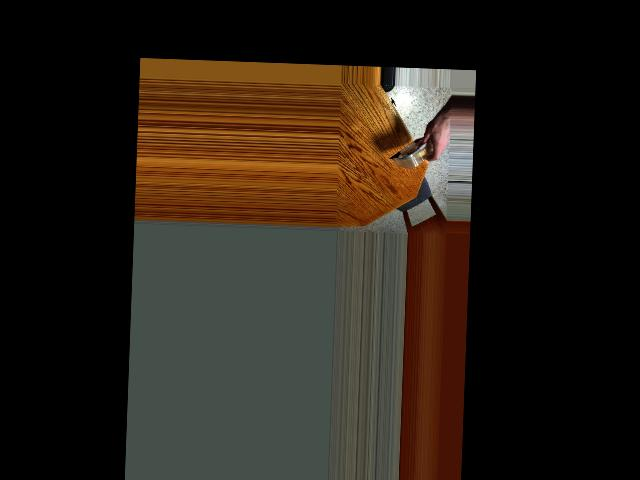cheese: (393, 121, 439, 175)
